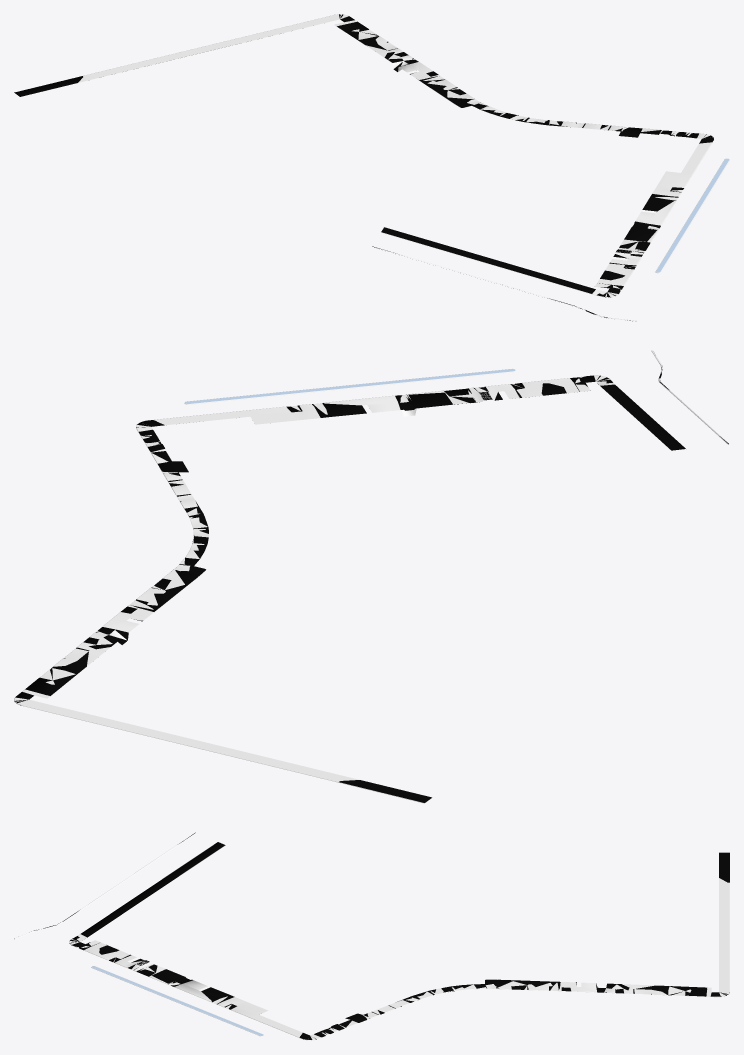
Rendered from sidewalk_residential4.dae.
3 renders of one model, top to bottom at view 1: azimuth 30°, elevation 25°; view 2: azimuth 150°, elevation 25°; view 3: azimuth 270°, elevation 25°, orthographic. The views are drawn at different scales.
Visible parts, largest first — view 1: sidewalk_residential4_a3000, sidewalk_residential4_a2000; view 2: sidewalk_residential4_a3000, sidewalk_residential4_a2000; view 3: sidewalk_residential4_a3000, sidewalk_residential4_a2000.
Boxes of the visible parts, bbox=[...] form: sidewalk_residential4_a3000: bbox=[78, 14, 729, 321]; sidewalk_residential4_a2000: bbox=[14, 14, 713, 321]; sidewalk_residential4_a3000: bbox=[14, 350, 728, 803]; sidewalk_residential4_a2000: bbox=[14, 366, 728, 802]; sidewalk_residential4_a3000: bbox=[15, 833, 729, 1040]; sidewalk_residential4_a2000: bbox=[14, 832, 729, 1039].
Size of the model in its own units: 186 by 280 by 20.2.
